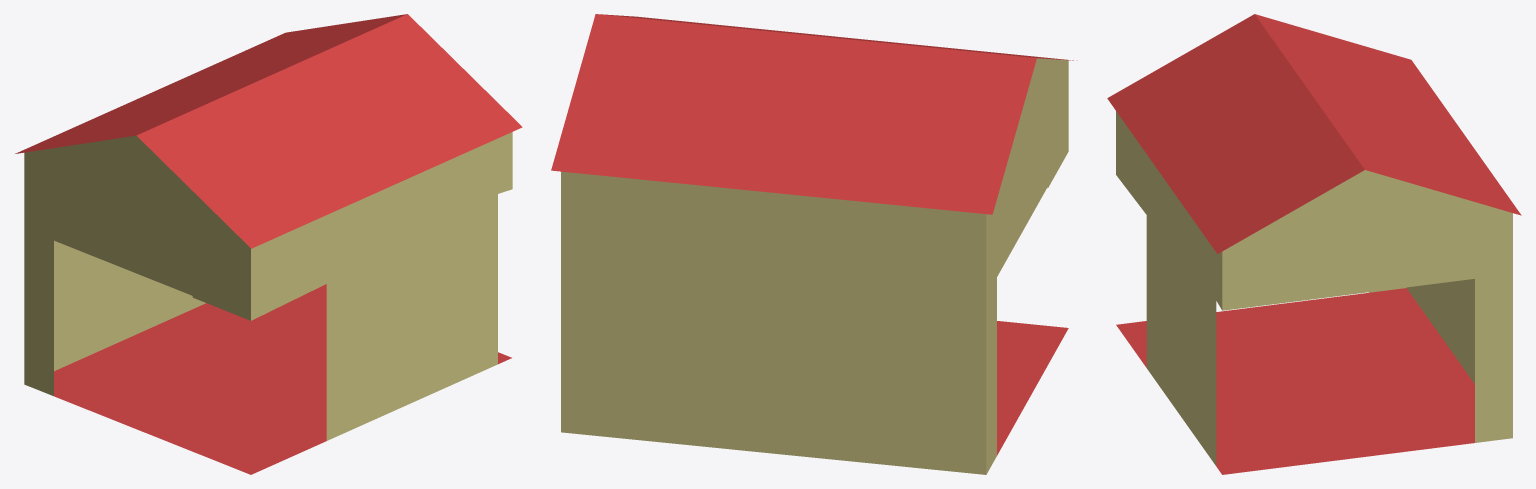
3 renders of one model, left to right at view 1: azimuth 30°, elevation 25°; view 2: azimuth 150°, elevation 25°; view 3: azimuth 270°, elevation 25°, orthographic. The views are drawn at different scales.
Bounding box in the file's own units: 16.16 × 14.57 × 11.24.
